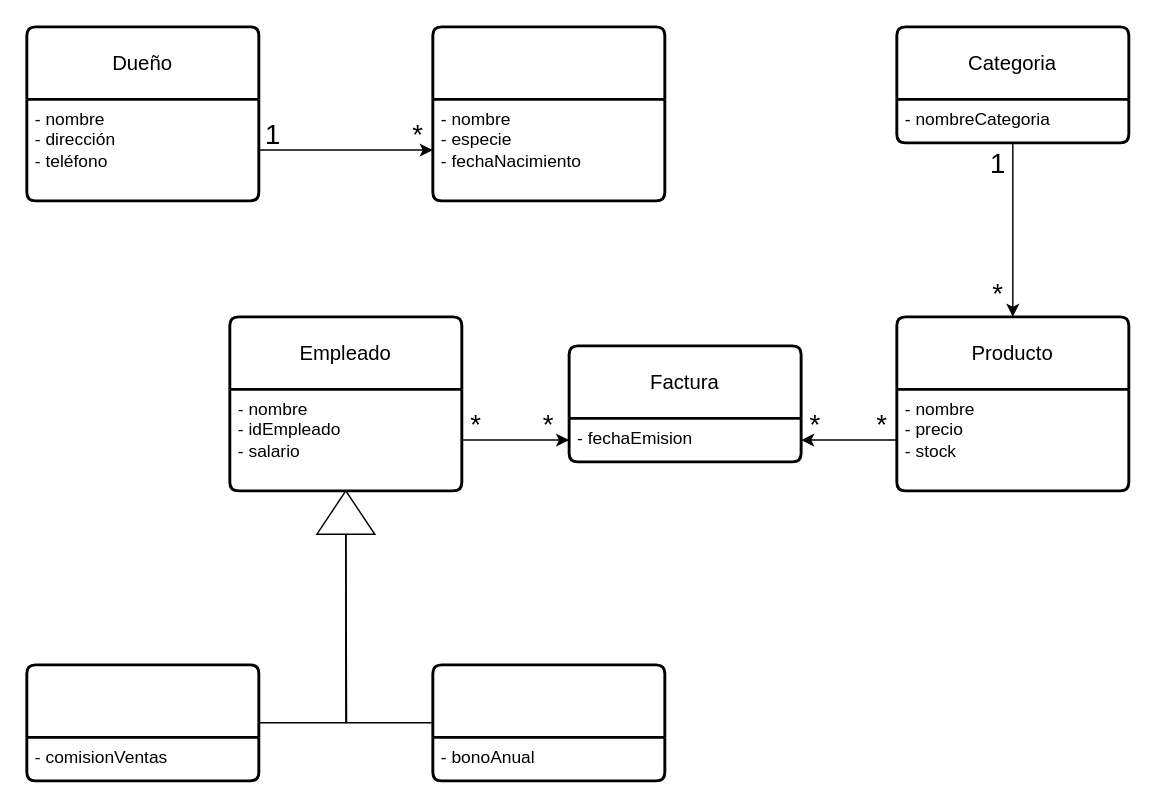
This 1154x806 diagram has some shape labels left out. Each missing label, with the box of its shape:
Administrador: (431, 663, 666, 782)
Mascota: (431, 25, 666, 202)
Vendedor: (25, 663, 260, 782)
